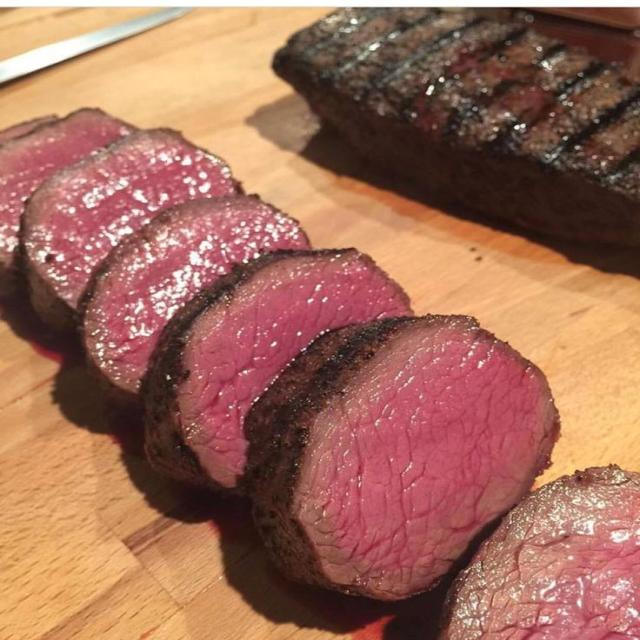beef steak: (246, 317, 559, 599), (274, 8, 639, 245), (142, 249, 411, 488), (81, 195, 309, 399), (21, 129, 238, 328), (441, 466, 639, 639), (0, 109, 132, 274), (0, 115, 58, 144)
